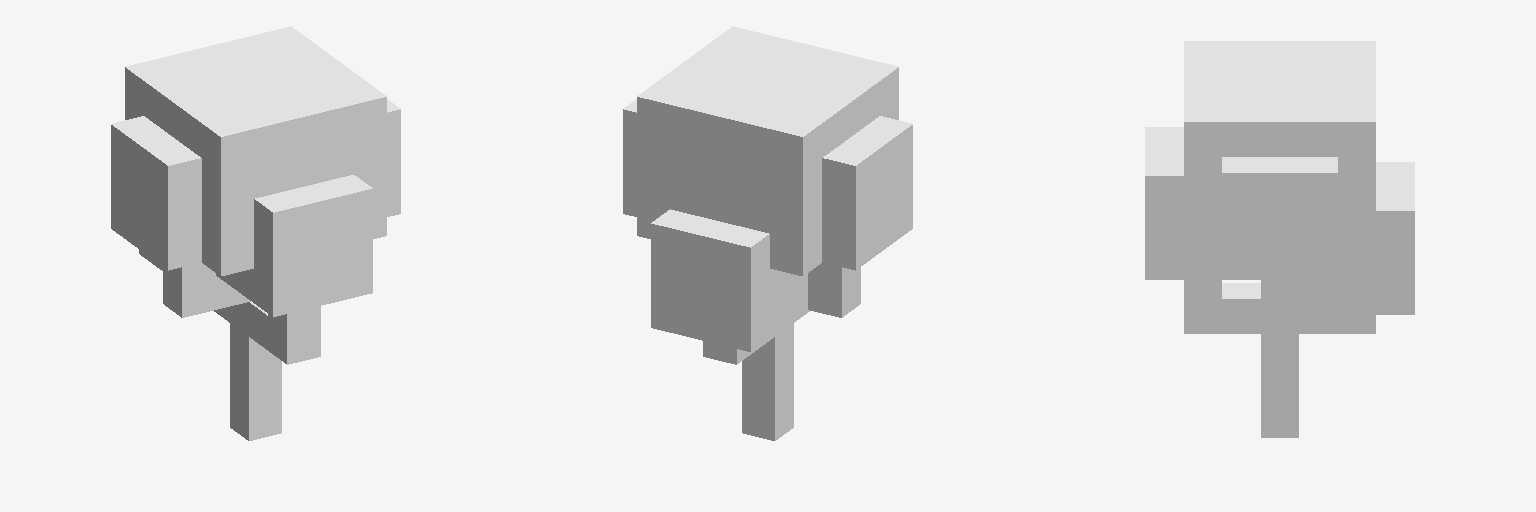
Rendered from Islands-80.obj.
3 views of the same model, side by side, from view 1: azimuth 30°, elevation 25°; view 2: azimuth 150°, elevation 25°; view 3: azimuth 270°, elevation 25° (orthographic).
Parts seen in each view (by area): view 1: object 1; view 2: object 1; view 3: object 1.
Part boxes in pixels (bbox=[...]): object 1: bbox=[111, 26, 400, 440]; object 1: bbox=[623, 26, 912, 440]; object 1: bbox=[1145, 41, 1414, 437].
Bounding box in the file's own units: 0.7 × 1 × 0.7.